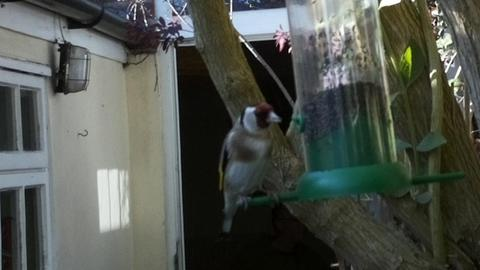goldfinch: (218, 103, 282, 234)
